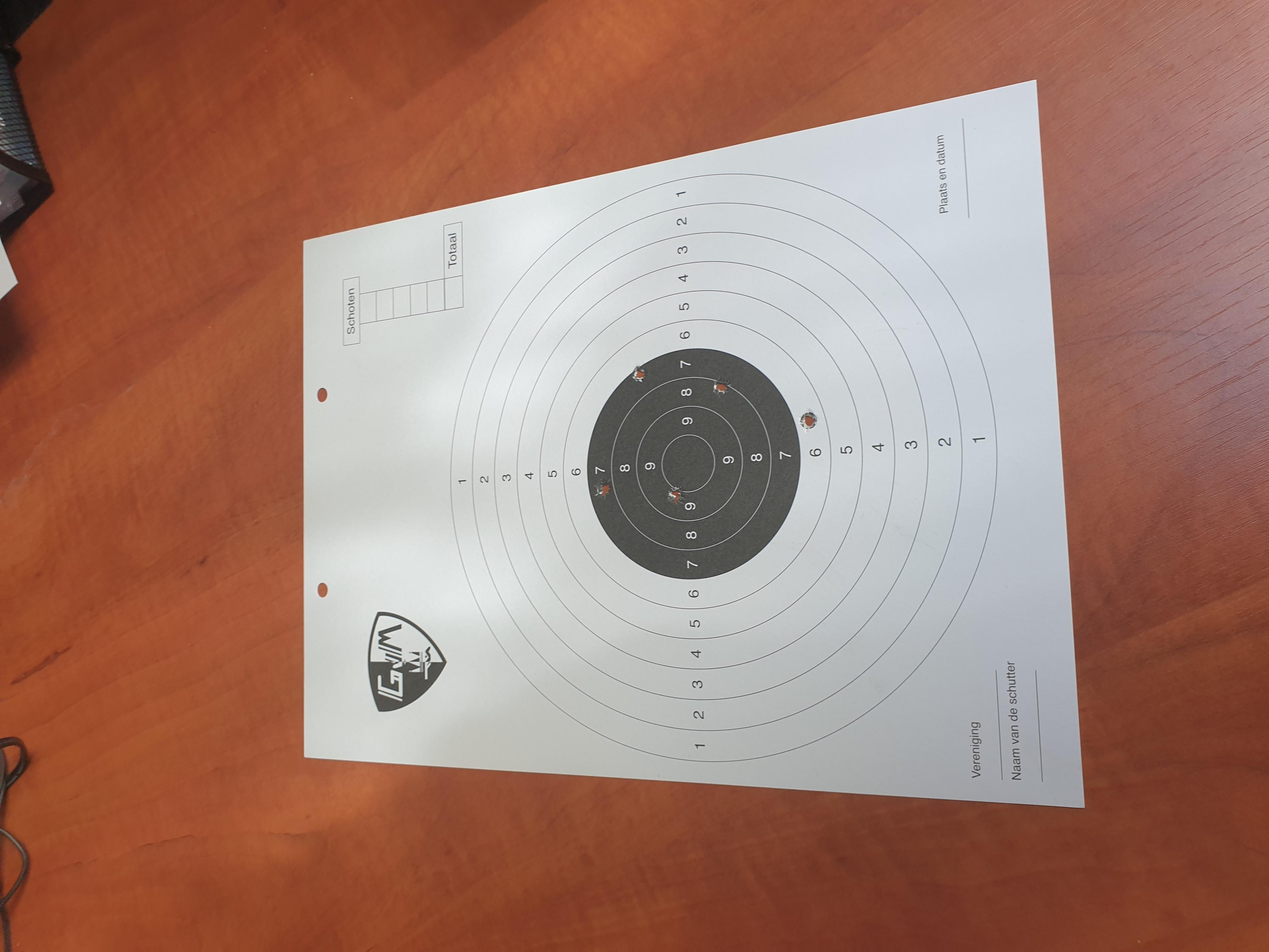hole: (595, 499, 623, 515), (601, 446, 632, 460), (695, 599, 722, 614), (740, 533, 765, 548), (757, 473, 784, 485)
